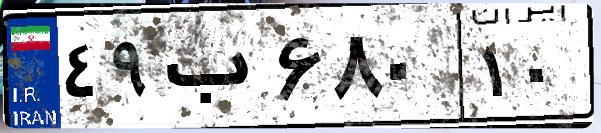0: (385, 28, 445, 110), (525, 38, 570, 115)
1: (475, 38, 525, 113)
4: (57, 26, 110, 100)
6: (270, 28, 330, 110)
8: (330, 28, 385, 110)
9: (110, 28, 158, 98)
ب: (158, 20, 270, 120)
